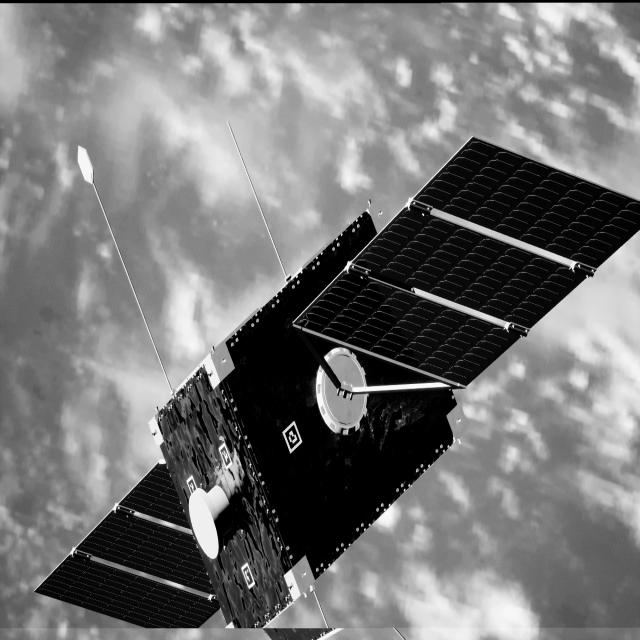medium_debris: (34, 138, 640, 631)
